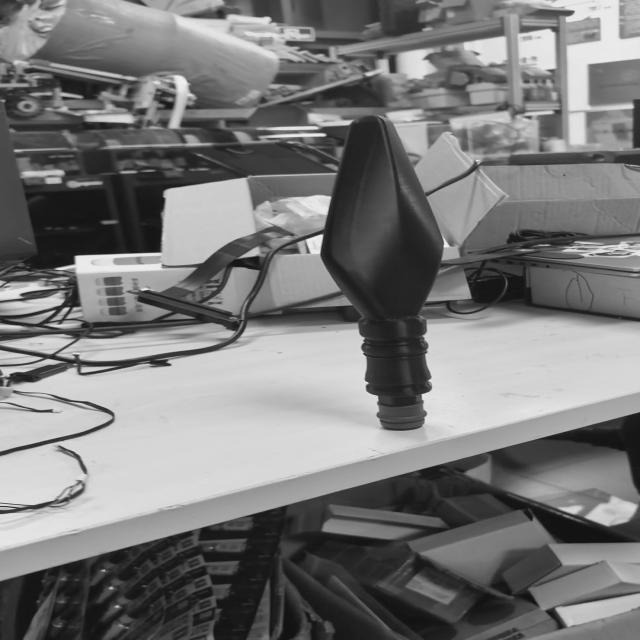base: (367, 401, 434, 435)
